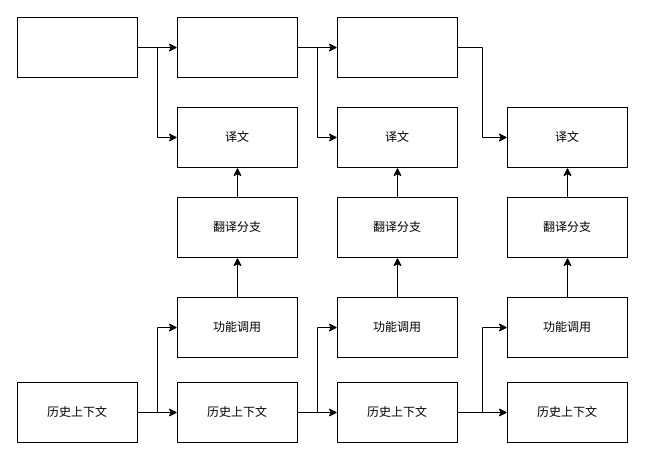
Image size: 645x460. Some labels were removed from this diagram. Each missing label, with the centre of its shape:
KV1: point (77, 47)
KV1+1: point (237, 47)
KV1+1+1: point (397, 47)
